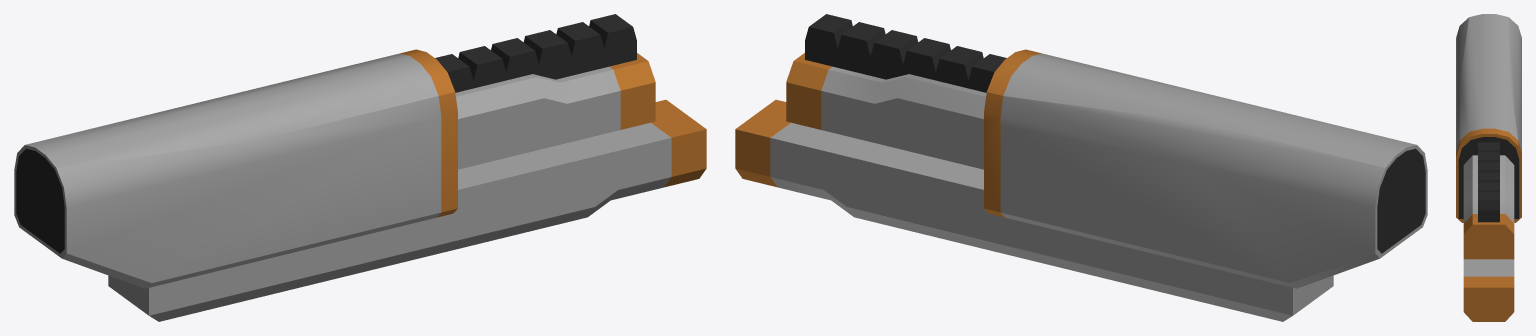
The model's file is quaternius-modular-sci-fi-guns-body-grenade-2.glb.
3 renders of one model, left to right at view 1: azimuth 30°, elevation 25°; view 2: azimuth 150°, elevation 25°; view 3: azimuth 270°, elevation 25°, orthographic. The views are drawn at different scales.
Visible parts, largest first — view 1: Body_Grenade_2; view 2: Body_Grenade_2; view 3: Body_Grenade_2.
Boxes of the visible parts, x1,y1,x2,y2 form: Body_Grenade_2: [14, 14, 706, 321]; Body_Grenade_2: [735, 14, 1427, 321]; Body_Grenade_2: [1456, 14, 1521, 321].
Size of the model in its own units: 1.33 by 0.3689 by 0.1875.
